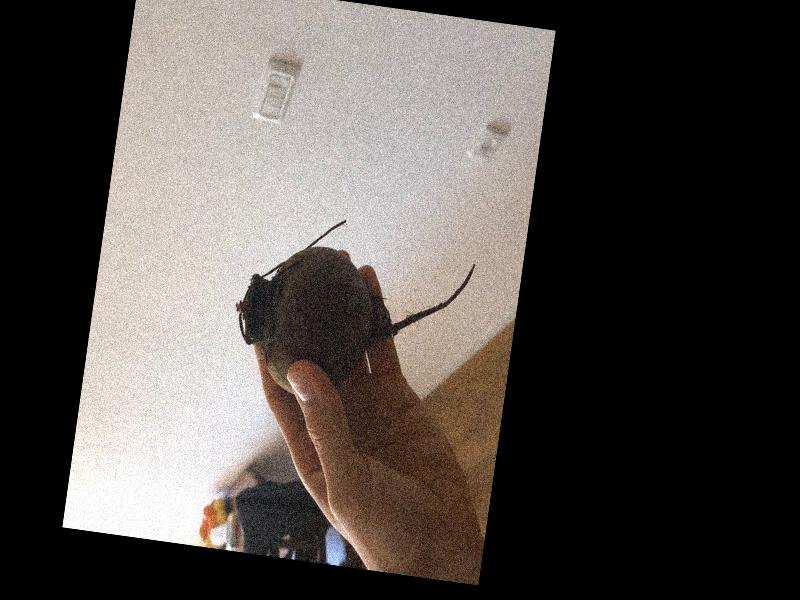Beet: (224, 205, 479, 417)
